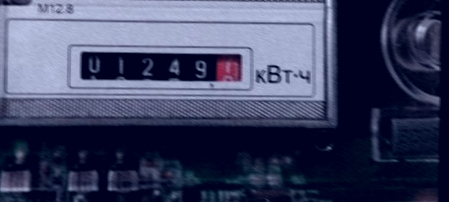0: (88, 52, 103, 72)
1: (115, 52, 128, 74)
2: (140, 54, 157, 76)
4: (169, 54, 183, 74)
7: (223, 52, 237, 72)
9: (195, 57, 209, 78)
screen: (66, 39, 258, 91)
